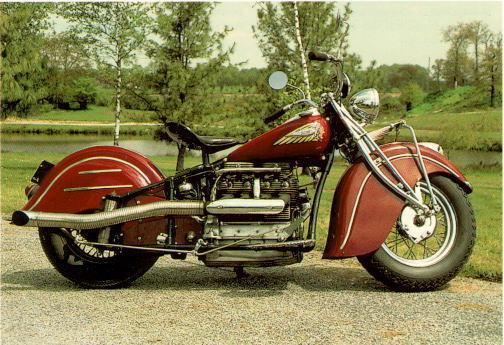motorcycle: (6, 40, 499, 306)
